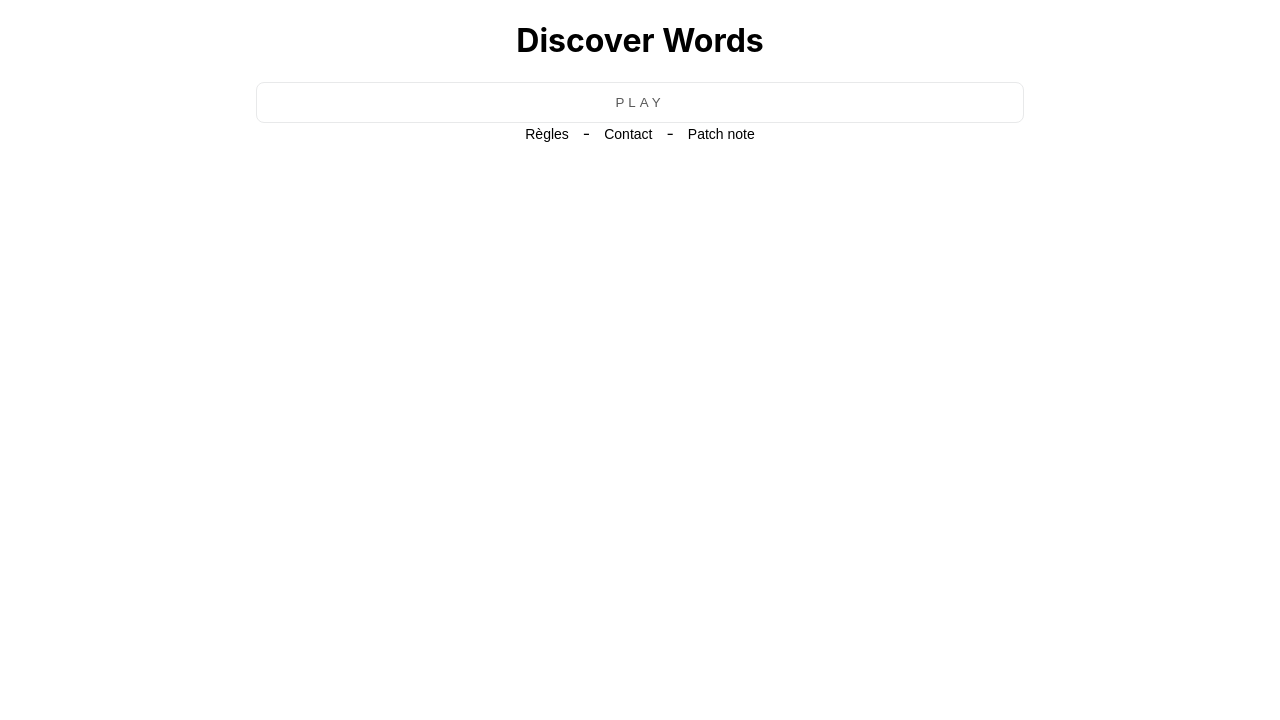
Scenario: Given I'm on the Home Page       When I click on the rules button       Then the rules modal's is open
The image size is (1280, 720).
What coordinates should you click on to do the following:
click the button "Règles"
I would click on:
 (547, 134)
Its box is top-left (519, 125), bottom-right (575, 143).
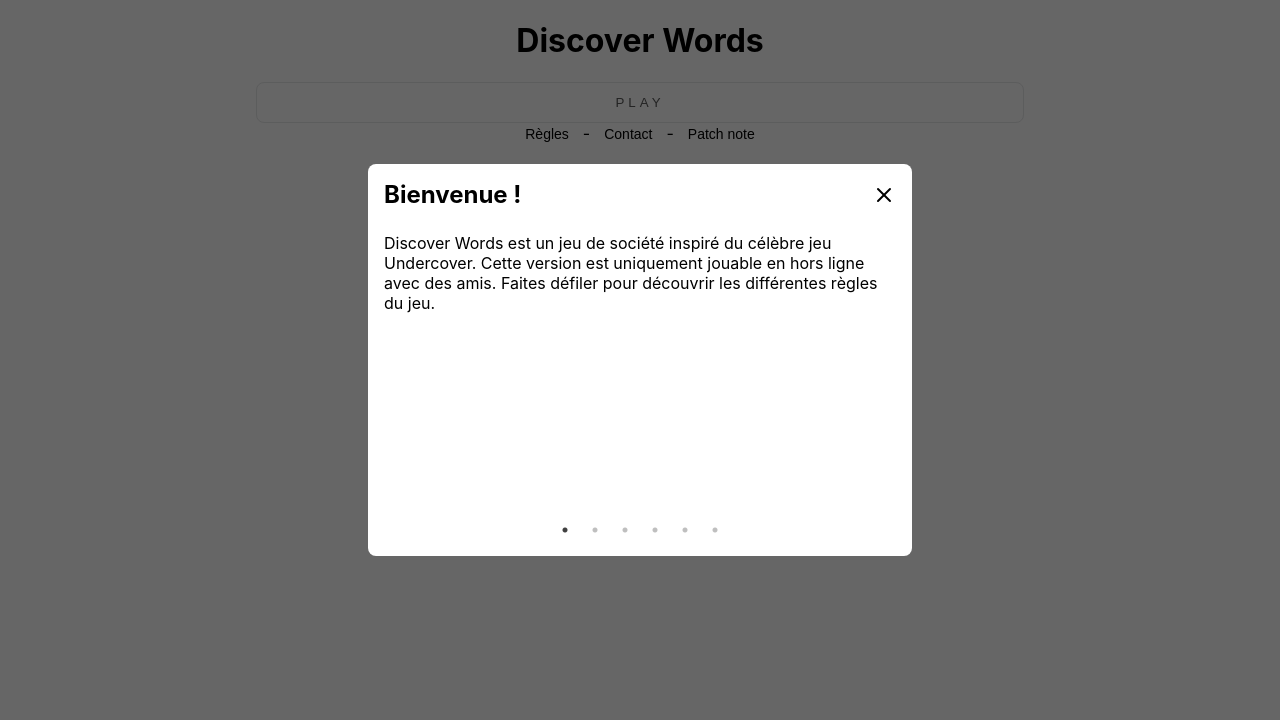
Check: the element named "rules-modal" is shown
